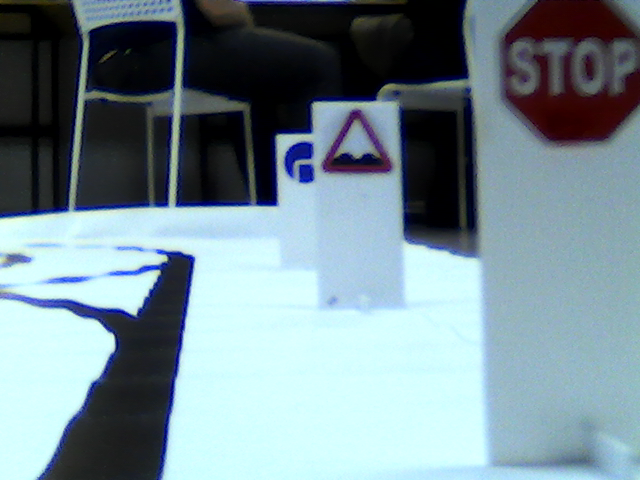Nerov: (322, 107, 395, 175)
Stop: (494, 5, 635, 150)
